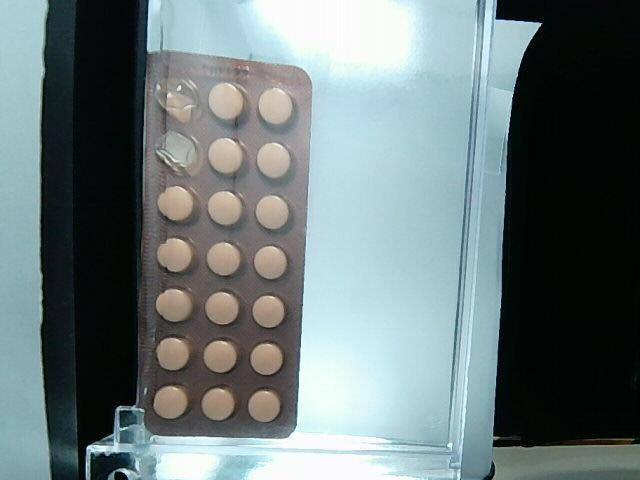Light Front: (139, 53, 311, 437)
No Pill Front: (155, 130, 201, 175), (155, 79, 201, 124)
Pill Front: (209, 83, 246, 122), (258, 88, 294, 127), (158, 188, 199, 222), (209, 138, 246, 175), (156, 238, 194, 273), (208, 191, 245, 226), (256, 143, 291, 179), (255, 195, 290, 230), (156, 289, 193, 322), (254, 245, 289, 279), (201, 386, 236, 420), (154, 385, 190, 418), (206, 243, 241, 276), (251, 295, 286, 328), (205, 291, 240, 324), (204, 340, 239, 373), (156, 338, 191, 371), (250, 343, 283, 376), (248, 389, 281, 422)
